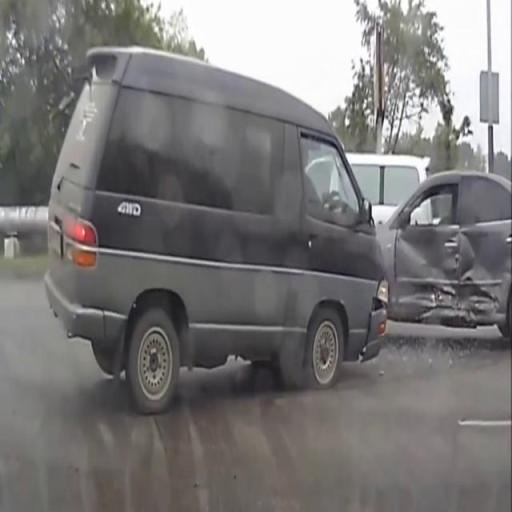小汽车撞小汽车: (46, 48, 511, 410)
